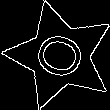O_E: (27, 27, 92, 85)
